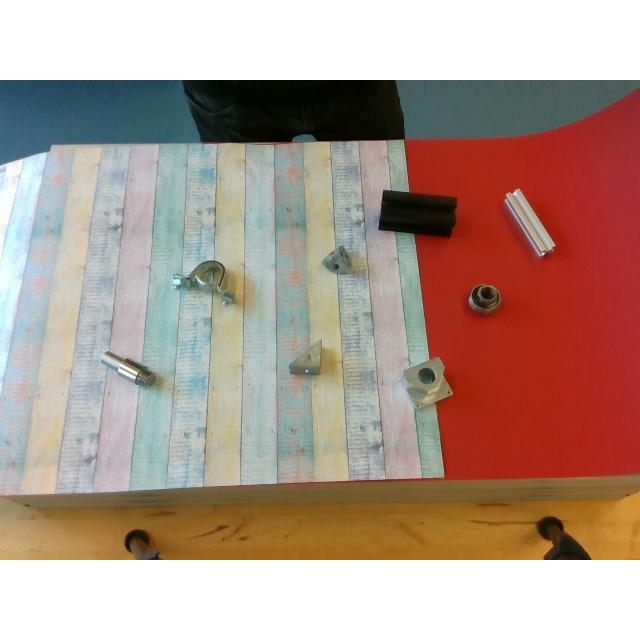Axis2: (100, 352, 156, 384)
Bearing2: (468, 284, 499, 308)
F20_20_G: (504, 188, 554, 256)
Housing: (172, 260, 235, 302)
S40_40_B: (378, 190, 456, 236)
